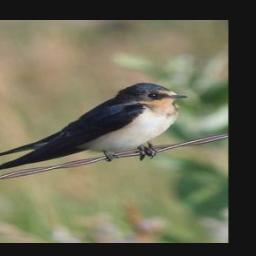Swallow: (0, 80, 190, 175)
